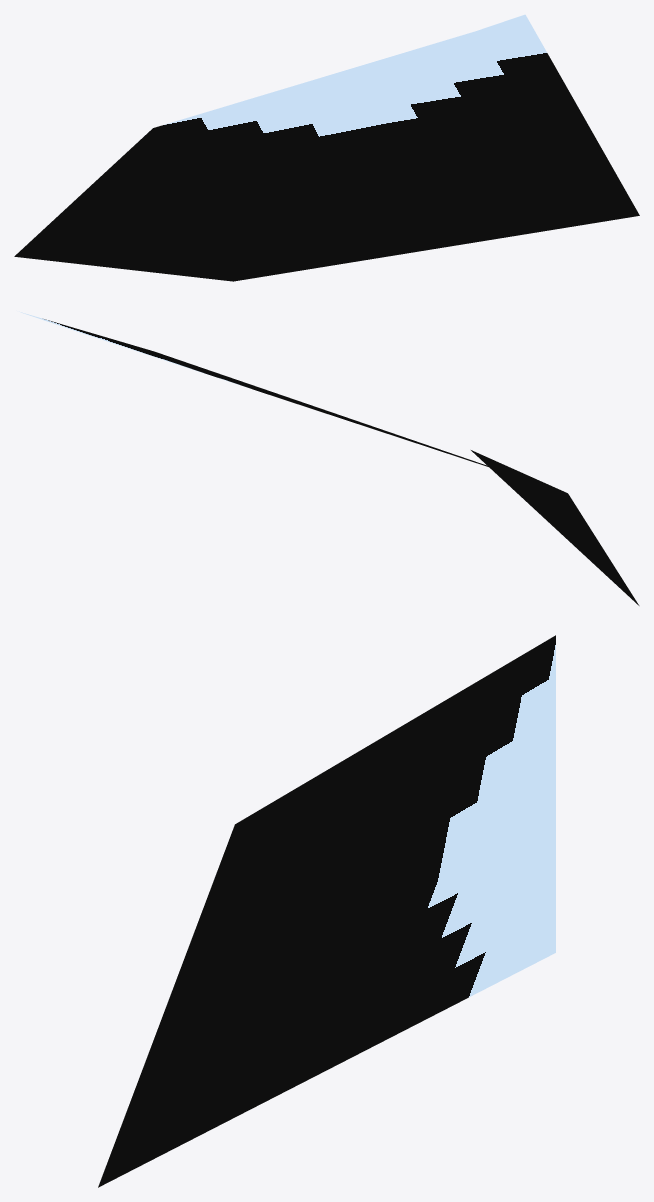
The picture shows the model from 3 angles, top to bottom: view 1: azimuth 30°, elevation 25°; view 2: azimuth 150°, elevation 25°; view 3: azimuth 270°, elevation 25°; orthographic projection. The views are drawn at different scales.
Size of the model in its own units: 0.8584 by 0.1885 by 0.333.
Materials: 1 (1 with a texture image).
